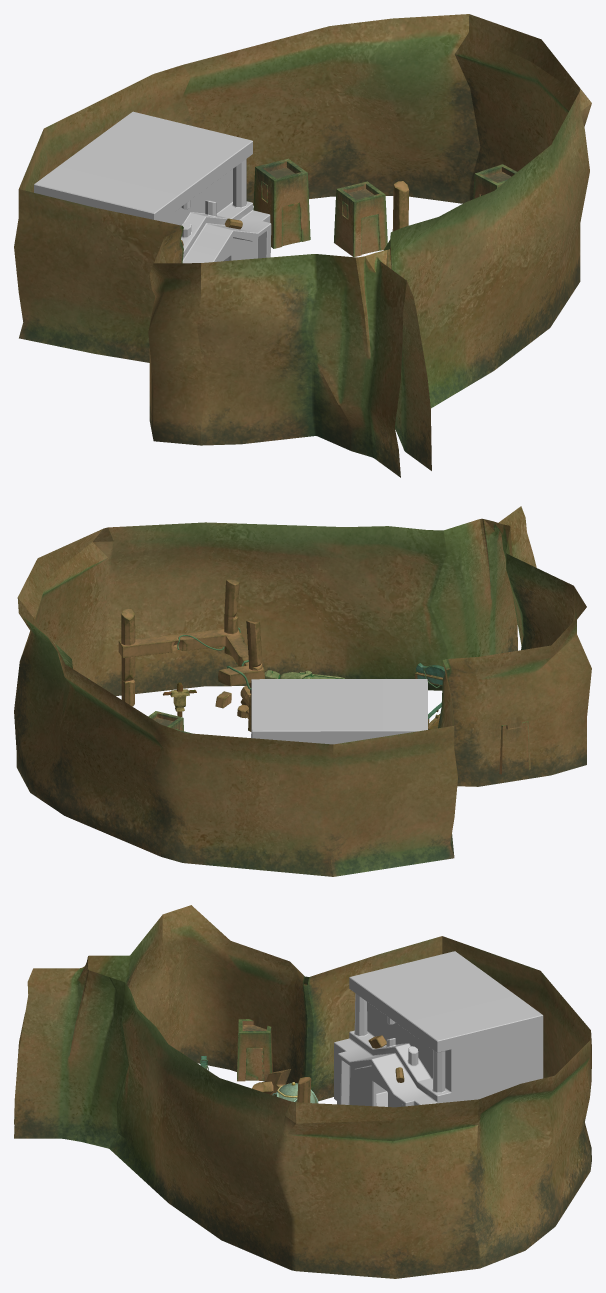
The model's file is ENV_ROK_TEX.fbx.
3 renders of one model, top to bottom at view 1: azimuth 30°, elevation 25°; view 2: azimuth 150°, elevation 25°; view 3: azimuth 270°, elevation 25°, orthographic. The views are drawn at different scales.
Visible parts, largest first — view 1: ENV_RoK_v01_Cliff, ENV_RoK_v01_Temple, ENV_RoK_v01_Building06, ENV_RoK_v01_Building01, ENV_RoK_v01_Building07, ENV_Rok_v01_Ruins; view 2: ENV_RoK_v01_Cliff, ENV_RoK_v01_Temple, ENV_Rok_v01_Ruins, ENV_RoK_v01_Archway; view 3: ENV_RoK_v01_Cliff, ENV_RoK_v01_Temple, ENV_RoK_v01_Building03, ENV_RoK_V01_Rubble18.
Boxes of the visible parts, bbox=[...] form: ENV_RoK_v01_Cliff: bbox=[14, 14, 591, 477]; ENV_RoK_v01_Temple: bbox=[34, 111, 271, 263]; ENV_RoK_v01_Building06: bbox=[253, 158, 310, 248]; ENV_RoK_v01_Building01: bbox=[334, 181, 387, 257]; ENV_RoK_v01_Building07: bbox=[473, 164, 516, 198]; ENV_Rok_v01_Ruins: bbox=[392, 181, 409, 231]; ENV_RoK_v01_Cliff: bbox=[14, 506, 591, 876]; ENV_RoK_v01_Temple: bbox=[251, 679, 427, 744]; ENV_Rok_v01_Ruins: bbox=[118, 579, 264, 731]; ENV_RoK_v01_Archway: bbox=[415, 663, 445, 685]; ENV_RoK_v01_Cliff: bbox=[14, 905, 591, 1278]; ENV_RoK_v01_Temple: bbox=[334, 951, 543, 1107]; ENV_RoK_v01_Building03: bbox=[237, 1019, 272, 1081]; ENV_RoK_V01_Rubble18: bbox=[252, 1069, 290, 1094].
Size of the model in its own units: 29.68 by 10.94 by 32.9.
